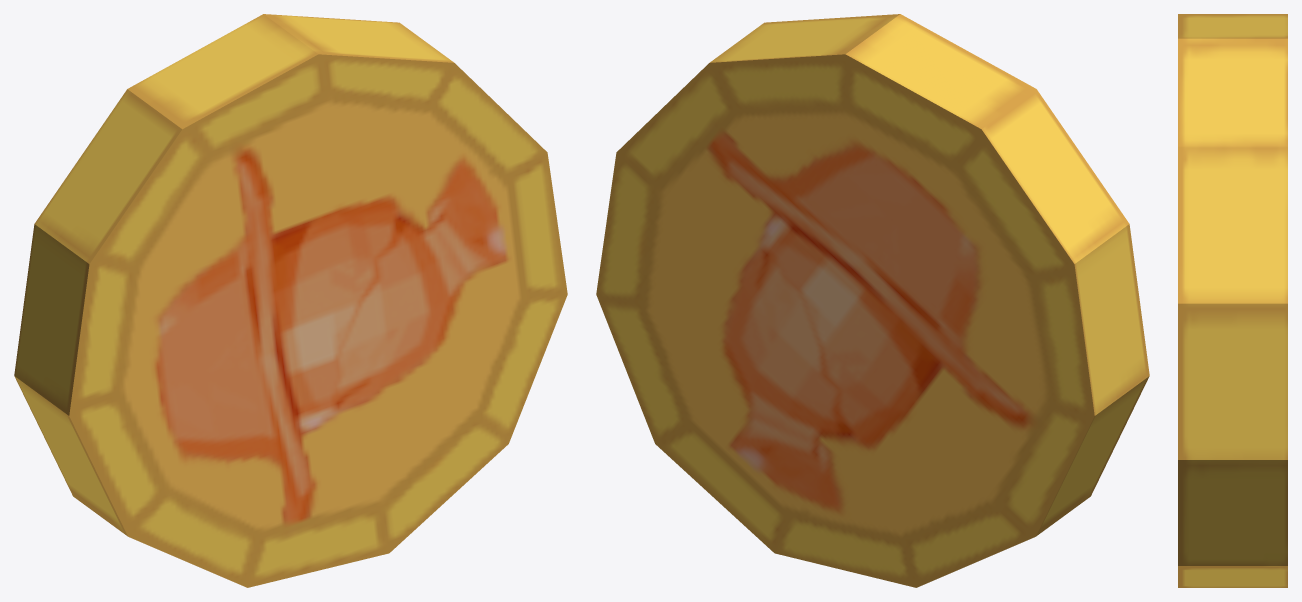
File: coinSimple.fbx
3 renders of one model, left to right at view 1: azimuth 30°, elevation 25°; view 2: azimuth 150°, elevation 25°; view 3: azimuth 270°, elevation 25°, orthographic.
Visible parts, largest first — view 1: coinSimple; view 2: coinSimple; view 3: coinSimple.
Boxes of the visible parts, x1=… form: coinSimple: x1=14, y1=14, x2=567, y2=587; coinSimple: x1=596, y1=14, x2=1149, y2=587; coinSimple: x1=1178, y1=14, x2=1287, y2=587.
Bounding box in the file's own units: 148 × 147 × 28.34.
